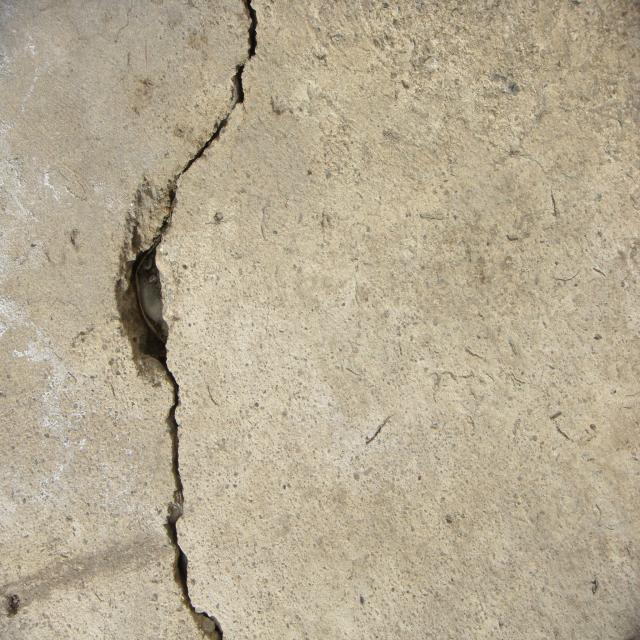Wall_Cracks: (81, 3, 328, 640)
